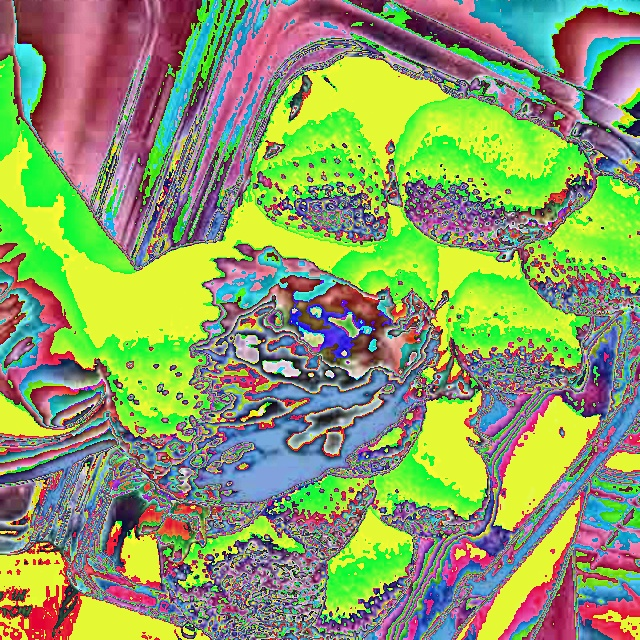background: (95, 63, 639, 639)
